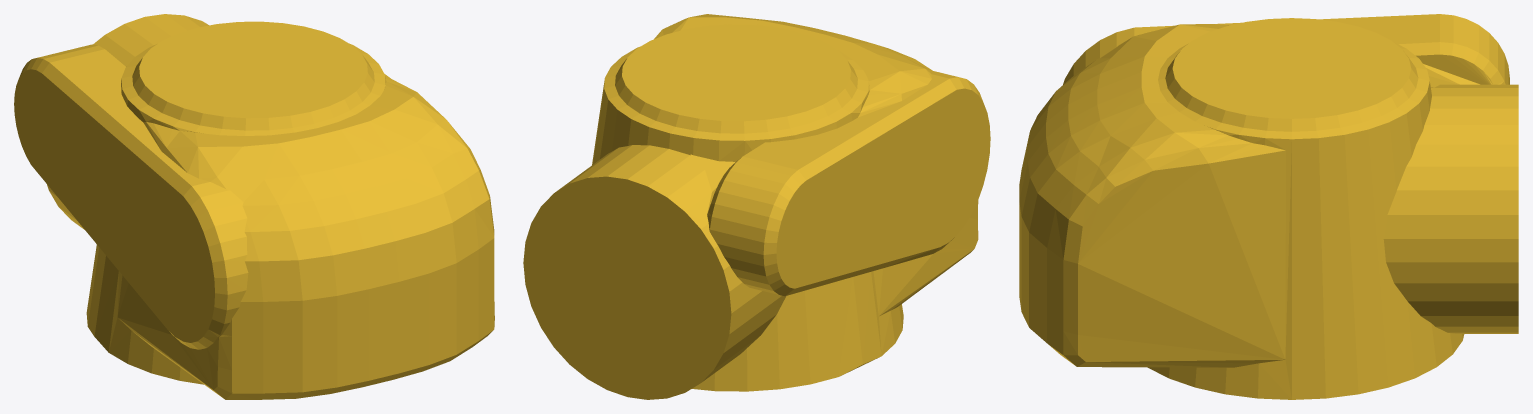
The model's file is elbow.dae.
3 renders of one model, left to right at view 1: azimuth 30°, elevation 25°; view 2: azimuth 150°, elevation 25°; view 3: azimuth 270°, elevation 25°, orthographic. The views are drawn at different scales.
Visible parts, largest first — view 1: Ellbow_mesh; view 2: Ellbow_mesh; view 3: Ellbow_mesh.
Boxes of the visible parts, x1,y1,x2,y2 form: Ellbow_mesh: [14, 14, 494, 399]; Ellbow_mesh: [523, 14, 990, 399]; Ellbow_mesh: [1019, 14, 1518, 399].
Bounding box in the file's own units: 0.1665 × 0.2377 × 0.1354.
